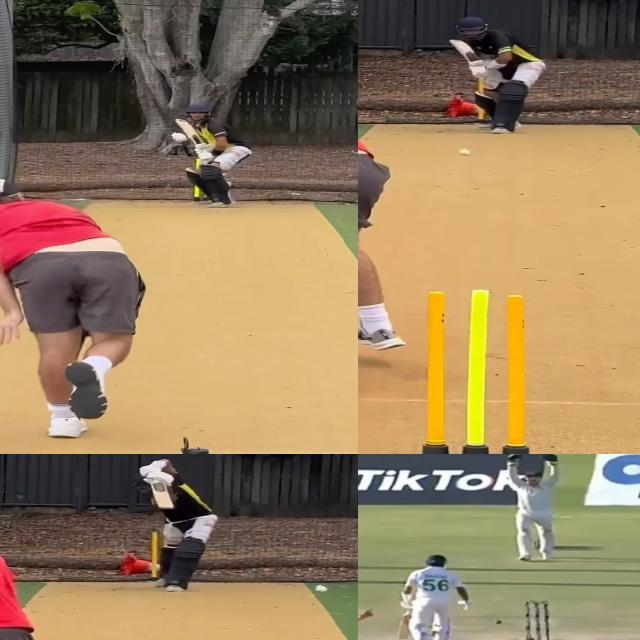Cricket ball: (169, 129, 191, 145), (459, 148, 472, 156), (314, 584, 327, 592)
Stumps: (408, 289, 544, 454), (525, 600, 549, 640)
